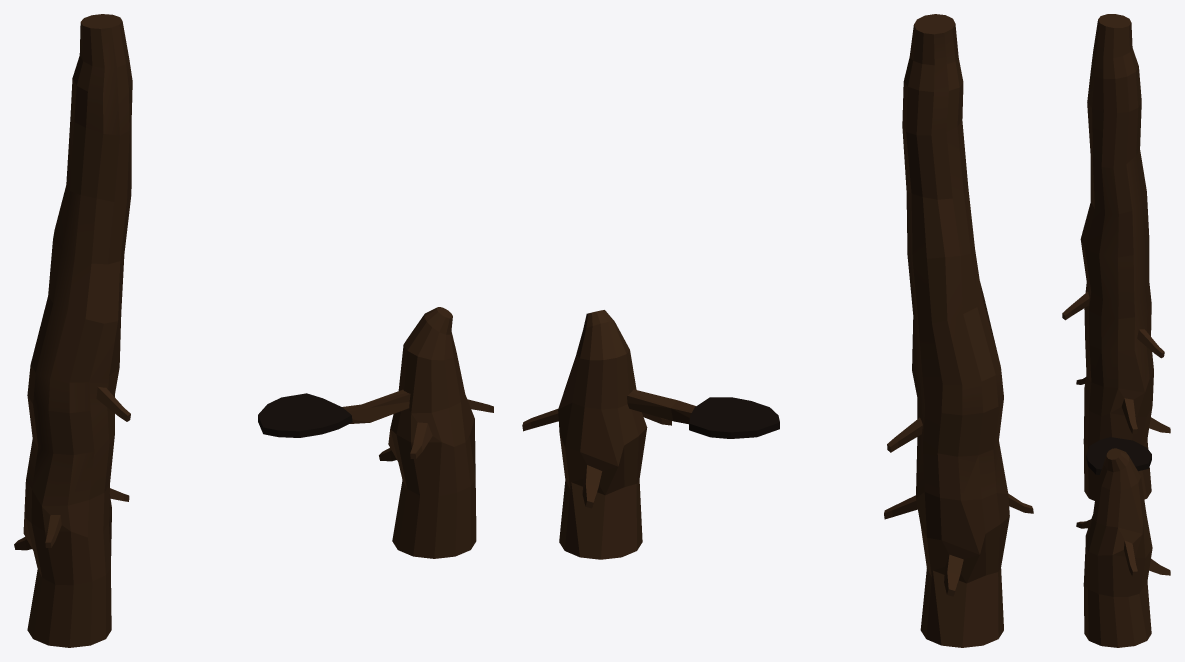
The model's file is tronc_platform1.glb.
3 renders of one model, left to right at view 1: azimuth 30°, elevation 25°; view 2: azimuth 150°, elevation 25°; view 3: azimuth 270°, elevation 25°, orthographic. The views are drawn at different scales.
Parts seen in each view (by area): view 1: tronc2, tronc, branche; view 2: tronc2, tronc, branche; view 3: tronc2, tronc, branche.
Part boxes in pixels (x1,y1,x2,y2): tronc2: (14, 14, 132, 647); tronc: (379, 307, 493, 558); branche: (258, 389, 410, 437); tronc2: (884, 14, 1033, 647); tronc: (522, 310, 671, 559); branche: (627, 389, 779, 438); tronc2: (1062, 14, 1170, 500); tronc: (1076, 448, 1170, 647); branche: (1086, 437, 1151, 474).
Bounding box in the file's own units: 13.2 × 15.83 × 3.22.
1 material, 1 textured.
